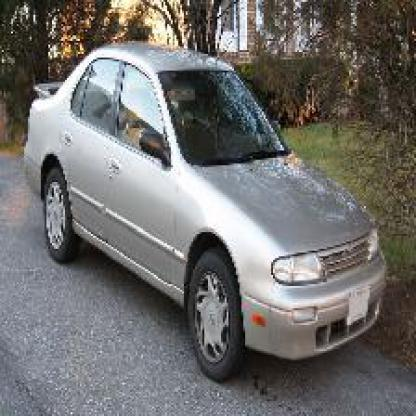not_emergency: (24, 19, 398, 375)
